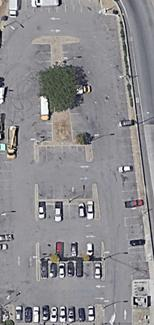parkingspot: (100, 15, 143, 220), (62, 42, 92, 142), (33, 42, 54, 142), (0, 162, 15, 289), (14, 304, 97, 324), (8, 0, 104, 17), (38, 240, 103, 261), (39, 261, 103, 280), (38, 202, 96, 221), (37, 182, 94, 201), (38, 145, 88, 162), (124, 223, 146, 236), (129, 251, 148, 263), (126, 238, 146, 249), (130, 266, 148, 277)
